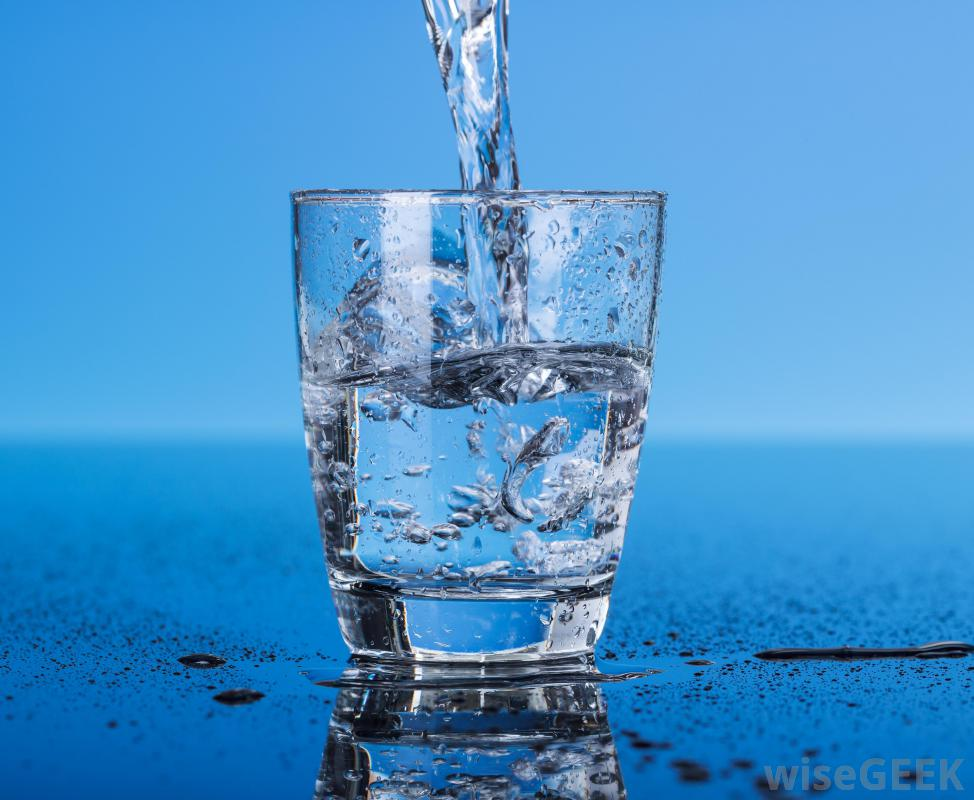glass of water: (328, 192, 613, 651)
